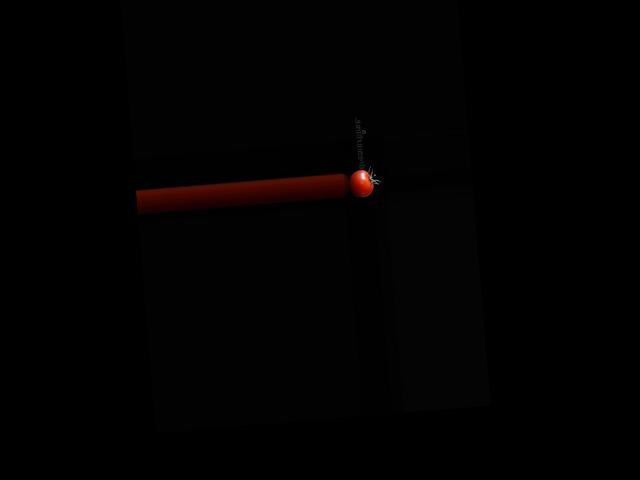tomato: (348, 168, 374, 197)
